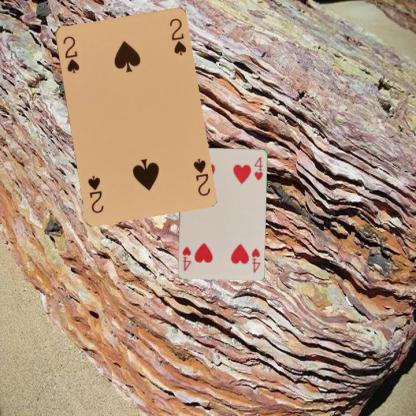2s: (190, 155, 212, 197), (60, 33, 80, 74)
4h: (249, 246, 261, 273)
